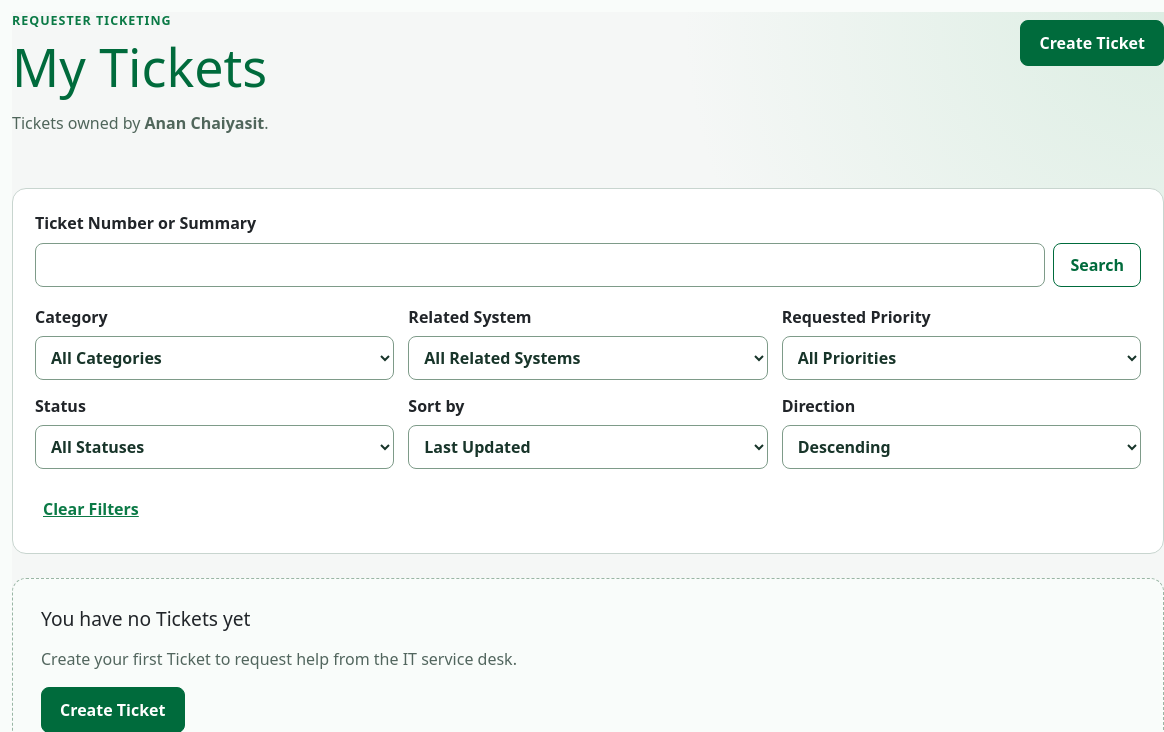
Test case: My Tickets › distinguishes an empty account from an active query with no results
Check: the heading "You have no Tickets yet" is shown, box [41, 608, 250, 630]
Check: the text "No Tickets match your search" is not shown
Type "missing" into the search field. click: point(540, 266)
box: [35, 244, 1045, 288]
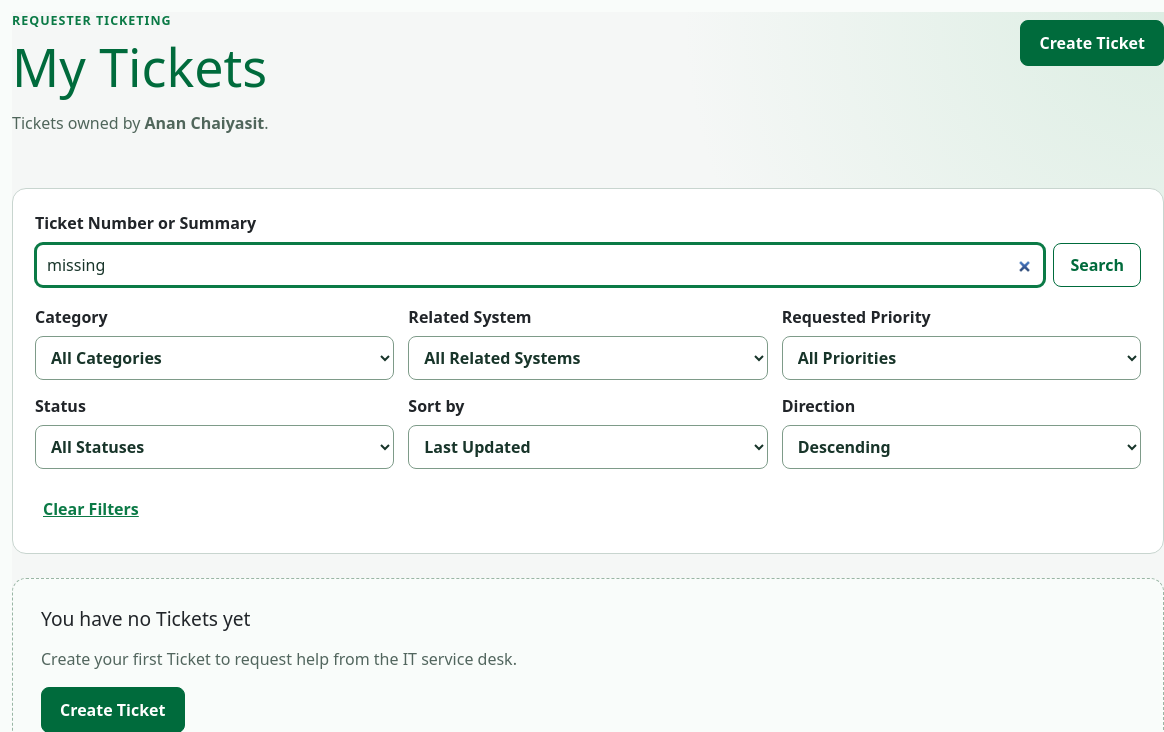
Click the button "Search". click: point(1097, 266)
box: [1053, 244, 1141, 288]
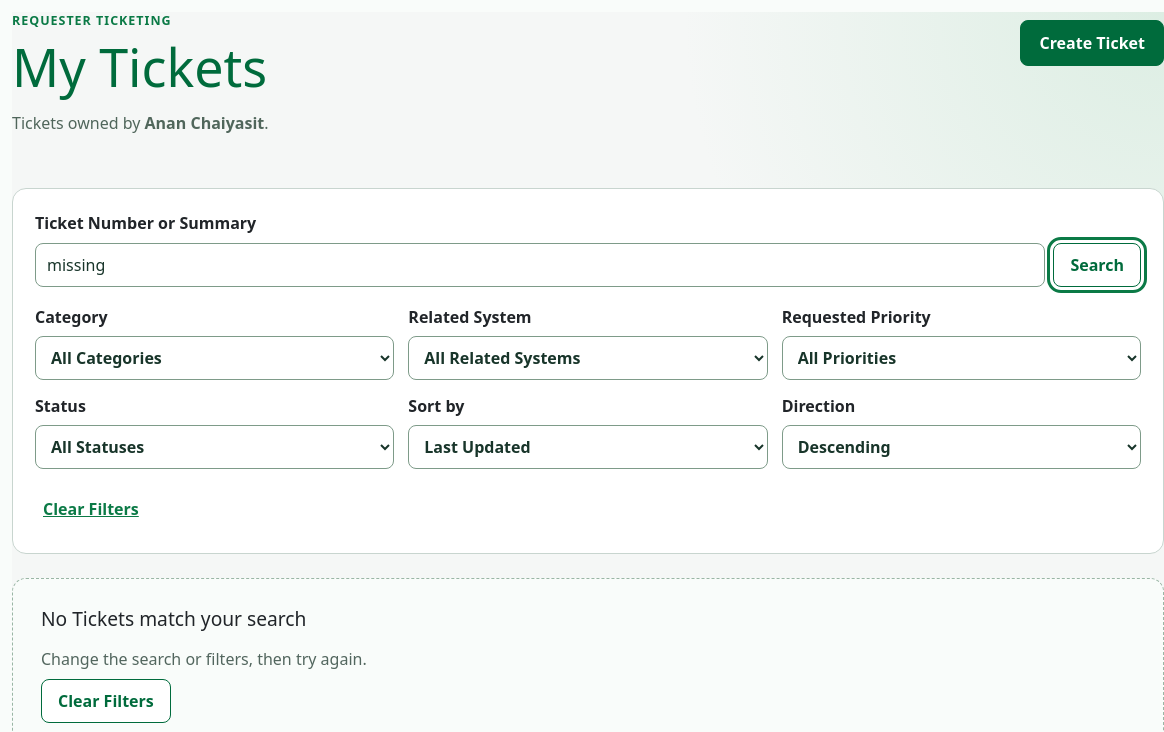
Check: the number of buttons "Clear Filters" is 2, box [35, 488, 147, 532]; [41, 678, 171, 722]
Check: the heading "No Tickets match your search" is shown, box [41, 608, 306, 630]
